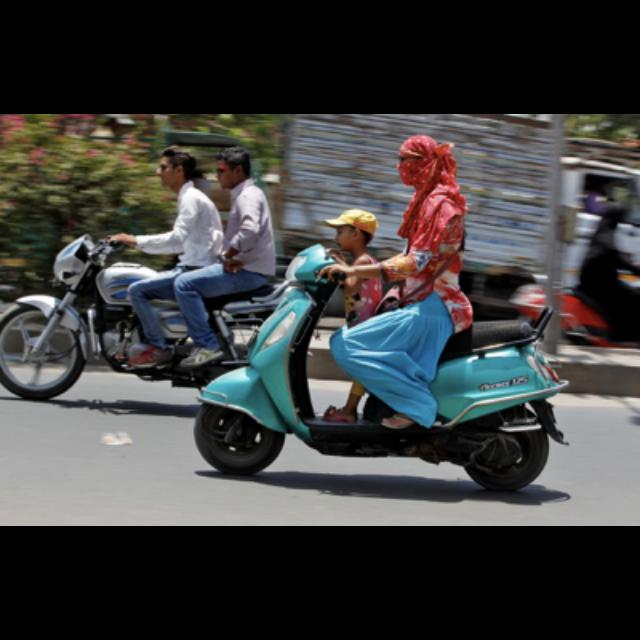Without Helmet: (389, 130, 455, 190), (152, 138, 196, 192)
